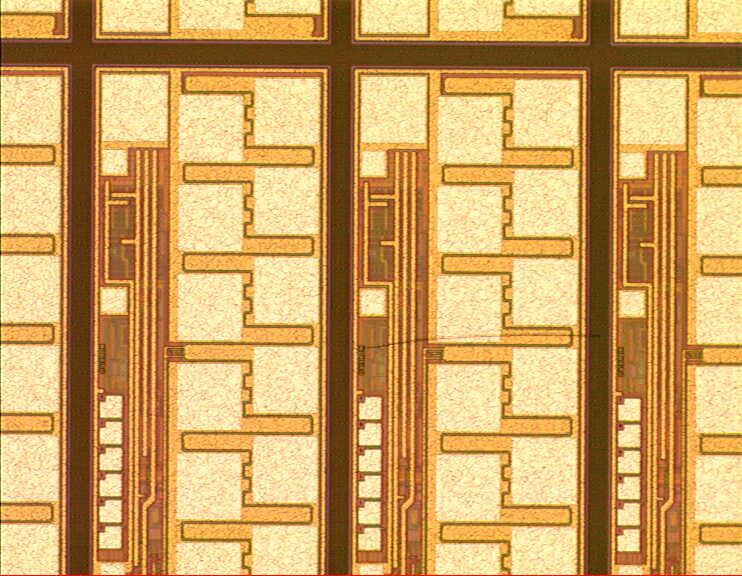SCRATCH: (329, 325, 611, 365)
